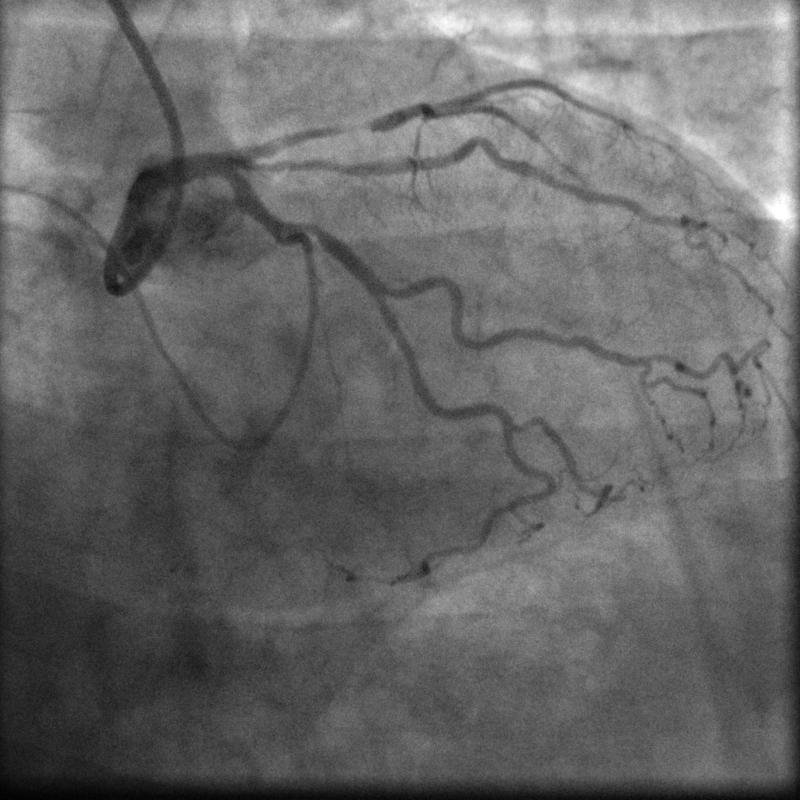Stenosis: (296, 217, 325, 244)
